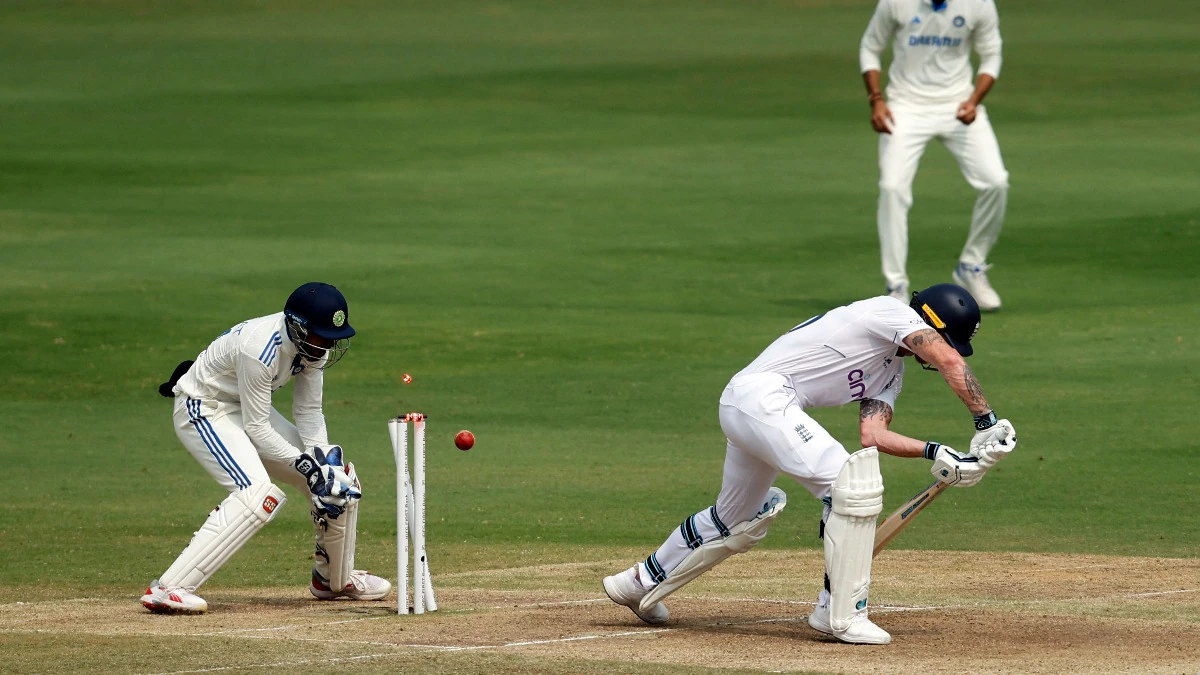Defence: (474, 75, 1156, 675)
